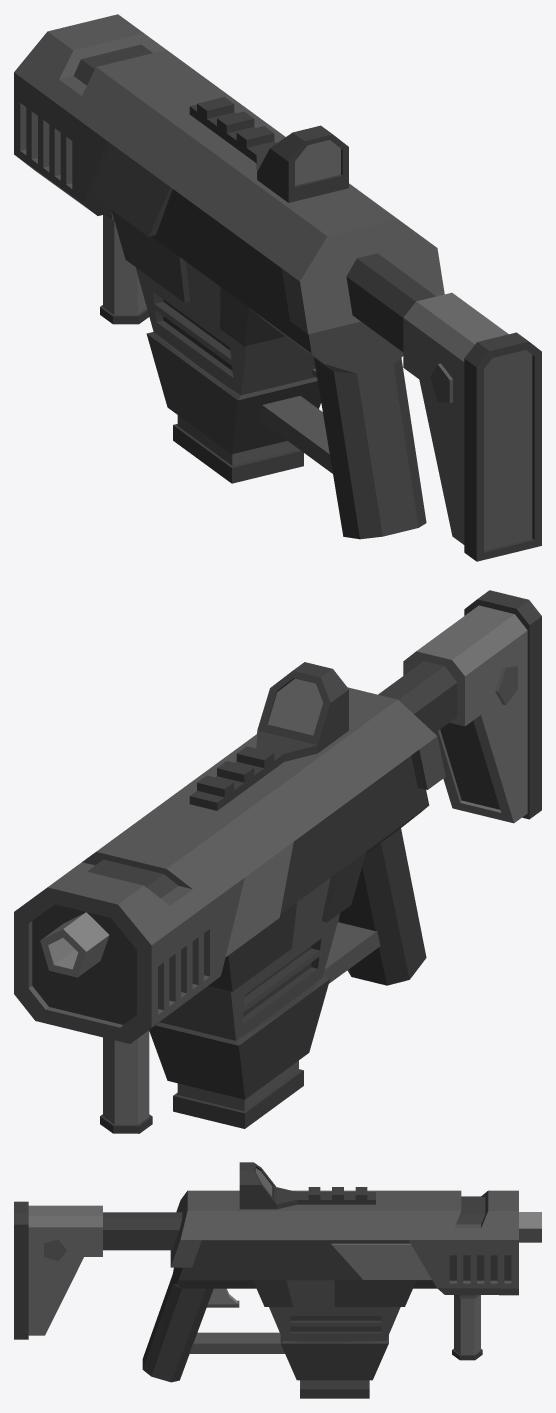
The model's file is fusil_2.glb.
The picture shows the model from 3 angles, top to bottom: view 1: azimuth 30°, elevation 25°; view 2: azimuth 150°, elevation 25°; view 3: azimuth 270°, elevation 25°; orthographic projection. The views are drawn at different scales.
Parts seen in each view (by area): view 1: fusil_2, fusil_scope_2, fusil_charguer_2, fusil_handle_2; view 2: fusil_2, fusil_scope_2, fusil_handle_2, fusil_charguer_2; view 3: fusil_2, fusil_scope_2, fusil_handle_2, fusil_charguer_2.
Boxes of the visible parts, <box> form: fusil_2: <box>14,14,541,561</box>; fusil_scope_2: <box>189,97,348,202</box>; fusil_charguer_2: <box>173,415,303,483</box>; fusil_handle_2: <box>100,213,149,324</box>; fusil_2: <box>14,590,541,1099</box>; fusil_scope_2: <box>189,662,348,810</box>; fusil_handle_2: <box>100,1030,152,1133</box>; fusil_charguer_2: <box>173,1060,303,1128</box>; fusil_2: <box>14,1190,541,1382</box>; fusil_scope_2: <box>239,1162,375,1209</box>; fusil_handle_2: <box>452,1295,482,1360</box>; fusil_charguer_2: <box>300,1380,369,1398</box>.
Bounding box in the file's own units: 0.4695 × 1.22 × 2.63.
Materials: 1 (1 with a texture image).
